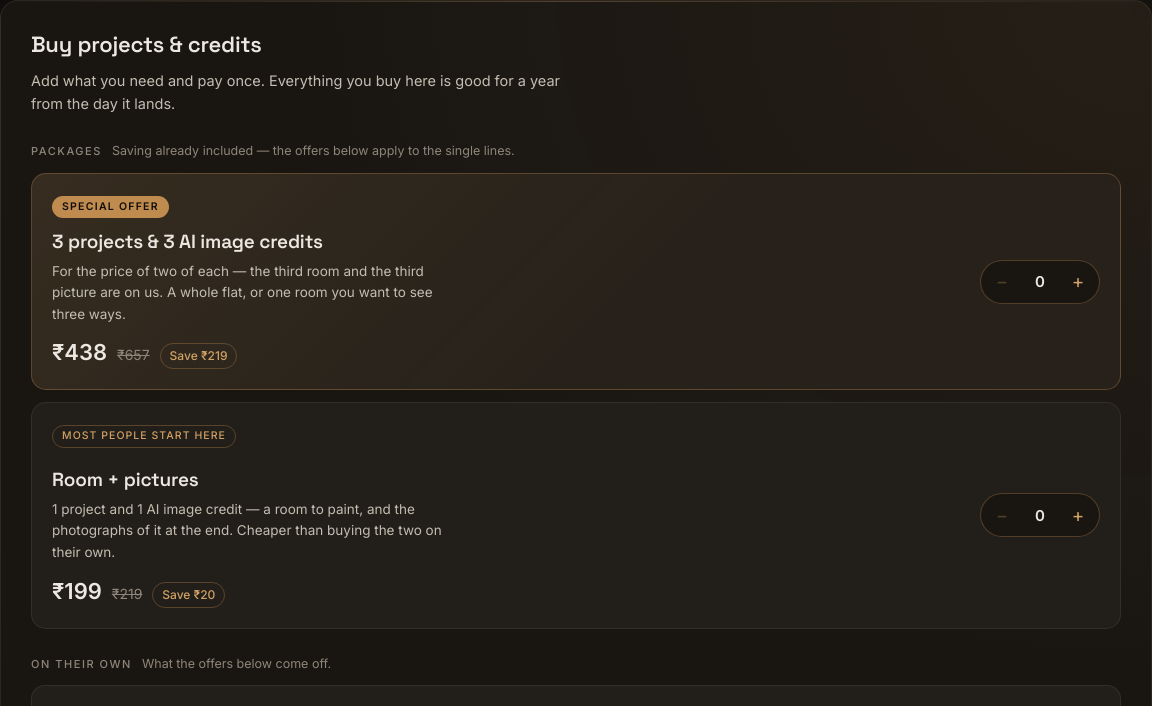
CreditsCart › counts a combo's contents into what the basket hands over
The image size is (1152, 706).
Click the button named "One more Room + pictures": coordinates (1078, 515) [1057,494,1099,536]
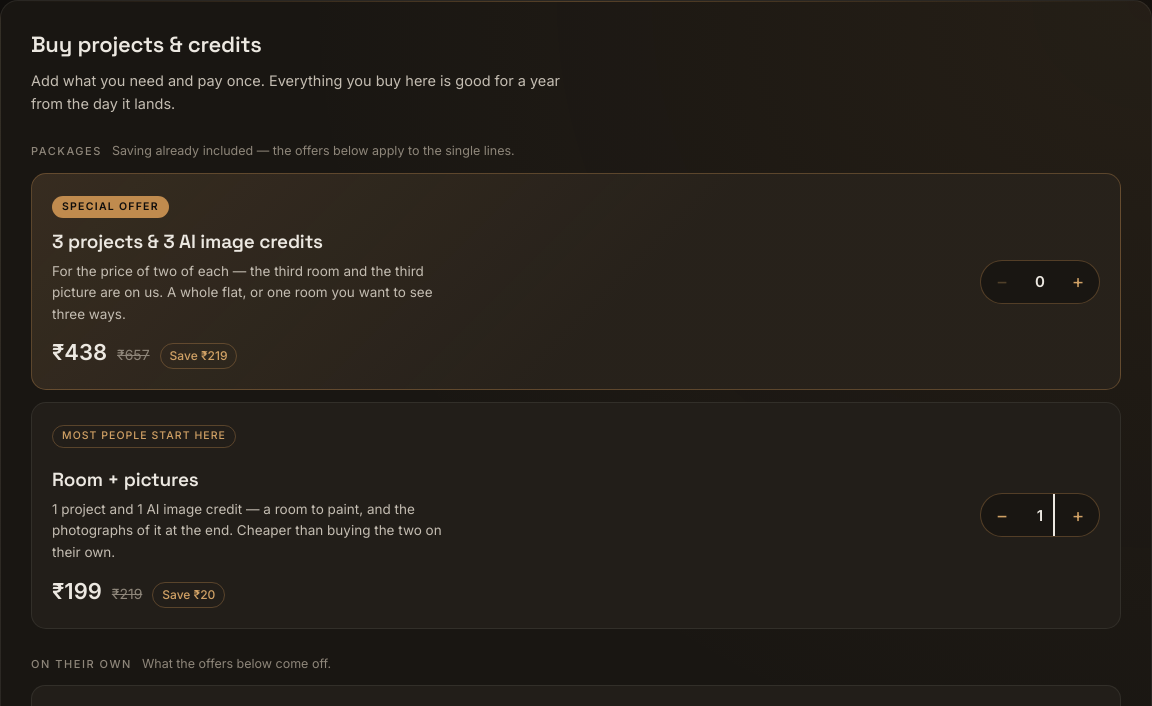
Click the button named "One more Room + pictures": coordinates (1078, 515) [1057,494,1099,536]
(page scrolled)
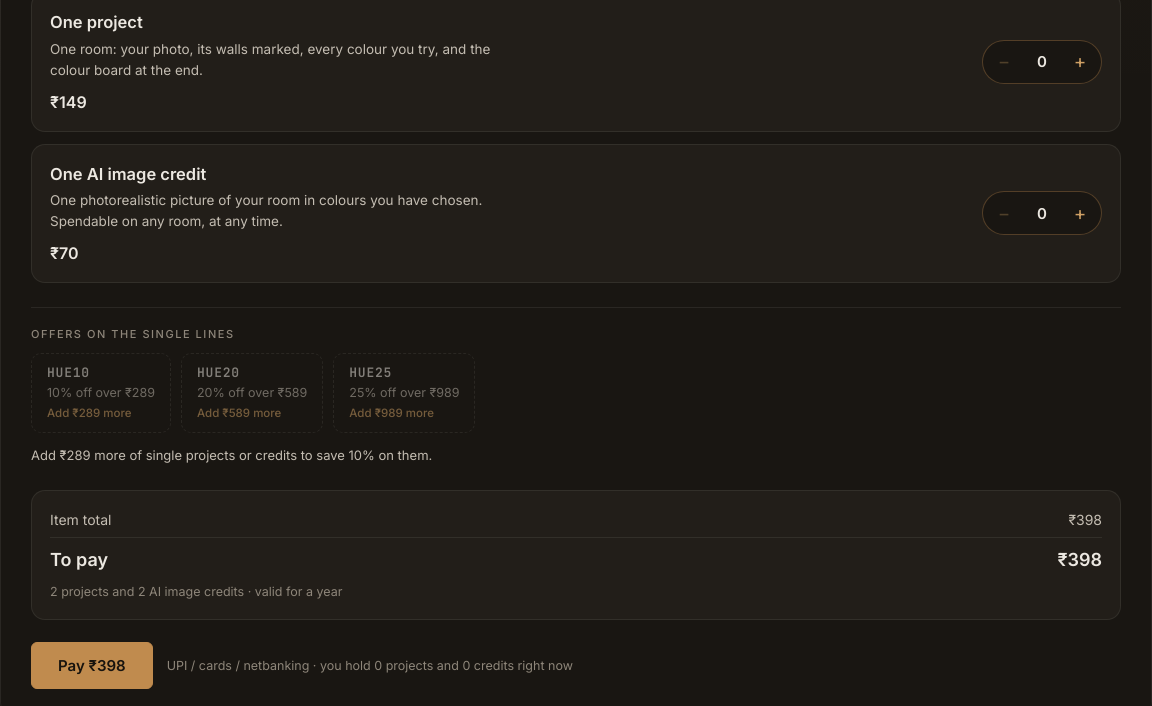
Check: the text "2 projects and 2 AI image credits · valid for a year" is shown, box [50,584,342,599]
